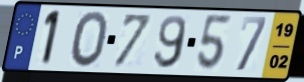1: (41, 9, 64, 68)
5: (194, 13, 234, 75)
7: (114, 12, 156, 70), (236, 14, 269, 75)
9: (152, 14, 189, 71)
O: (69, 9, 110, 70)
